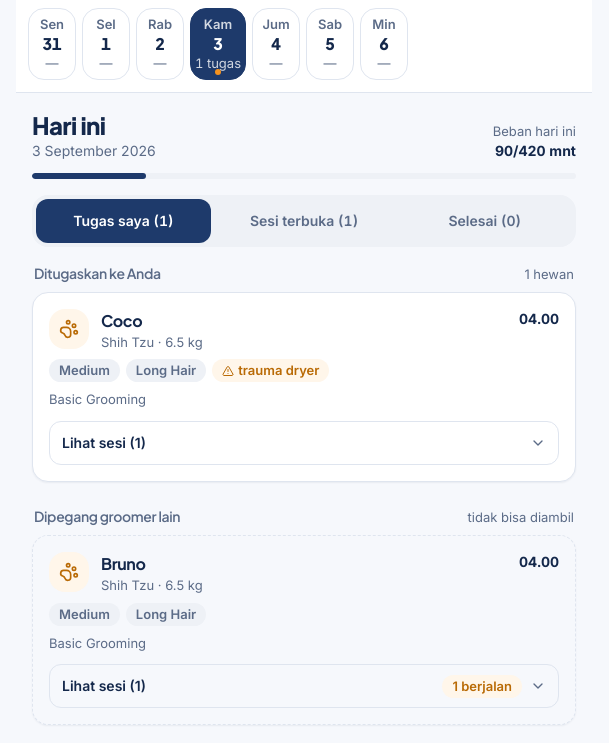
Test: GroomerScreen — the list › the commission summary › shows the month on Selesai when the shop allows it — and no figure per job
Click the tab "Selesai (0)". click: (485, 221)
box: x1=397 y1=199 x2=572 y2=243
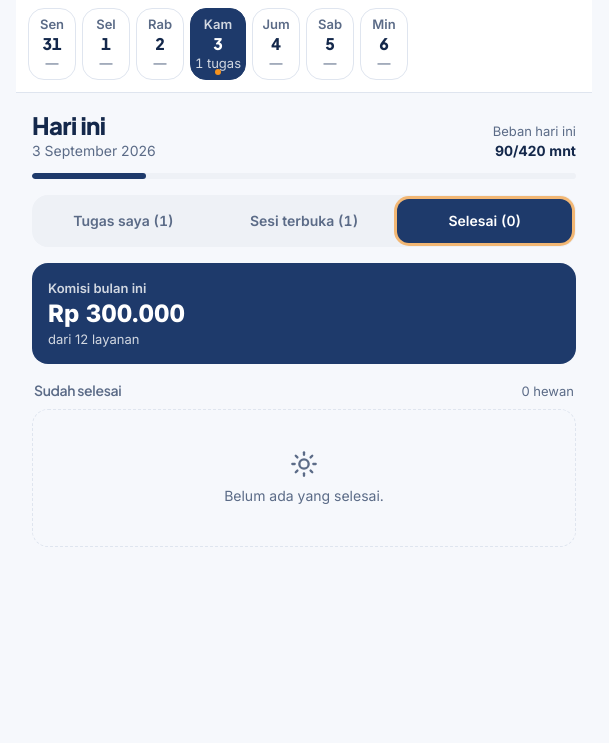
Check: the text "Rp 300.000" is shown, box x1=48 y1=298 x2=185 y2=328
Check: the text "dari 12 layanan" is shown, box x1=48 y1=330 x2=139 y2=346
